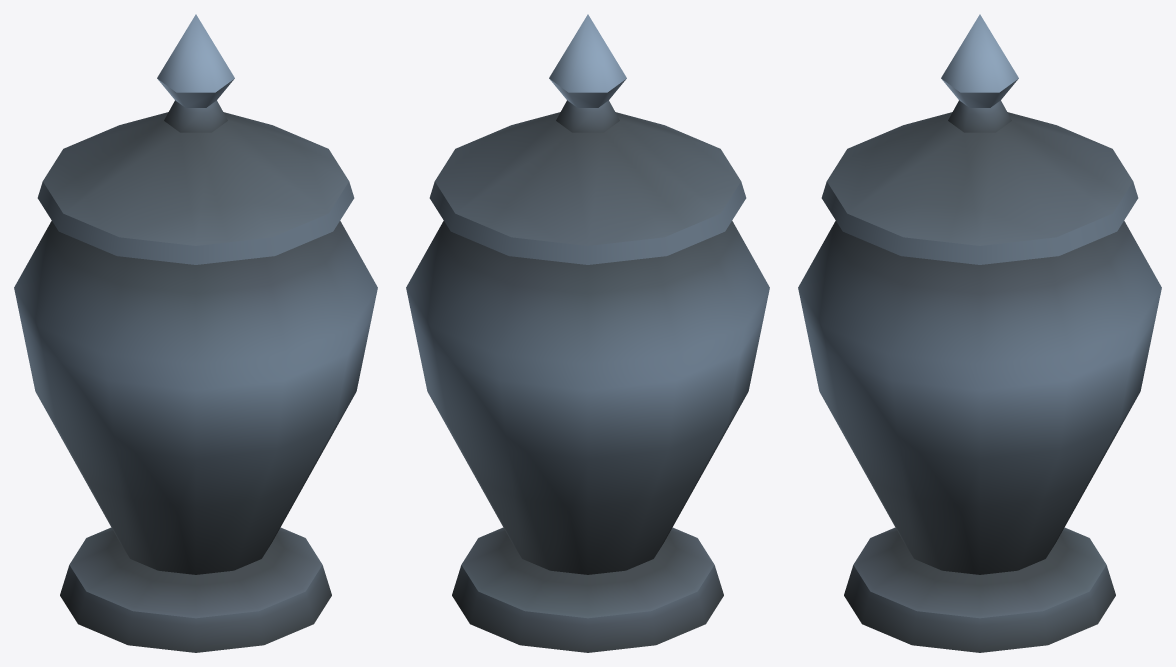
The model's file is Urn.fbx.
The picture shows the model from 3 angles, left to right: view 1: azimuth 30°, elevation 25°; view 2: azimuth 150°, elevation 25°; view 3: azimuth 270°, elevation 25°; orthographic projection.
Parts seen in each view (by area): view 1: Urn; view 2: Urn; view 3: Urn.
Part boxes in pixels (left/top/right/bottom): Urn: left=14, top=14, right=377, bottom=652; Urn: left=406, top=14, right=769, bottom=652; Urn: left=798, top=14, right=1161, bottom=652.
Bounding box in the file's own units: 0.4347 × 0.7663 × 0.4347.
